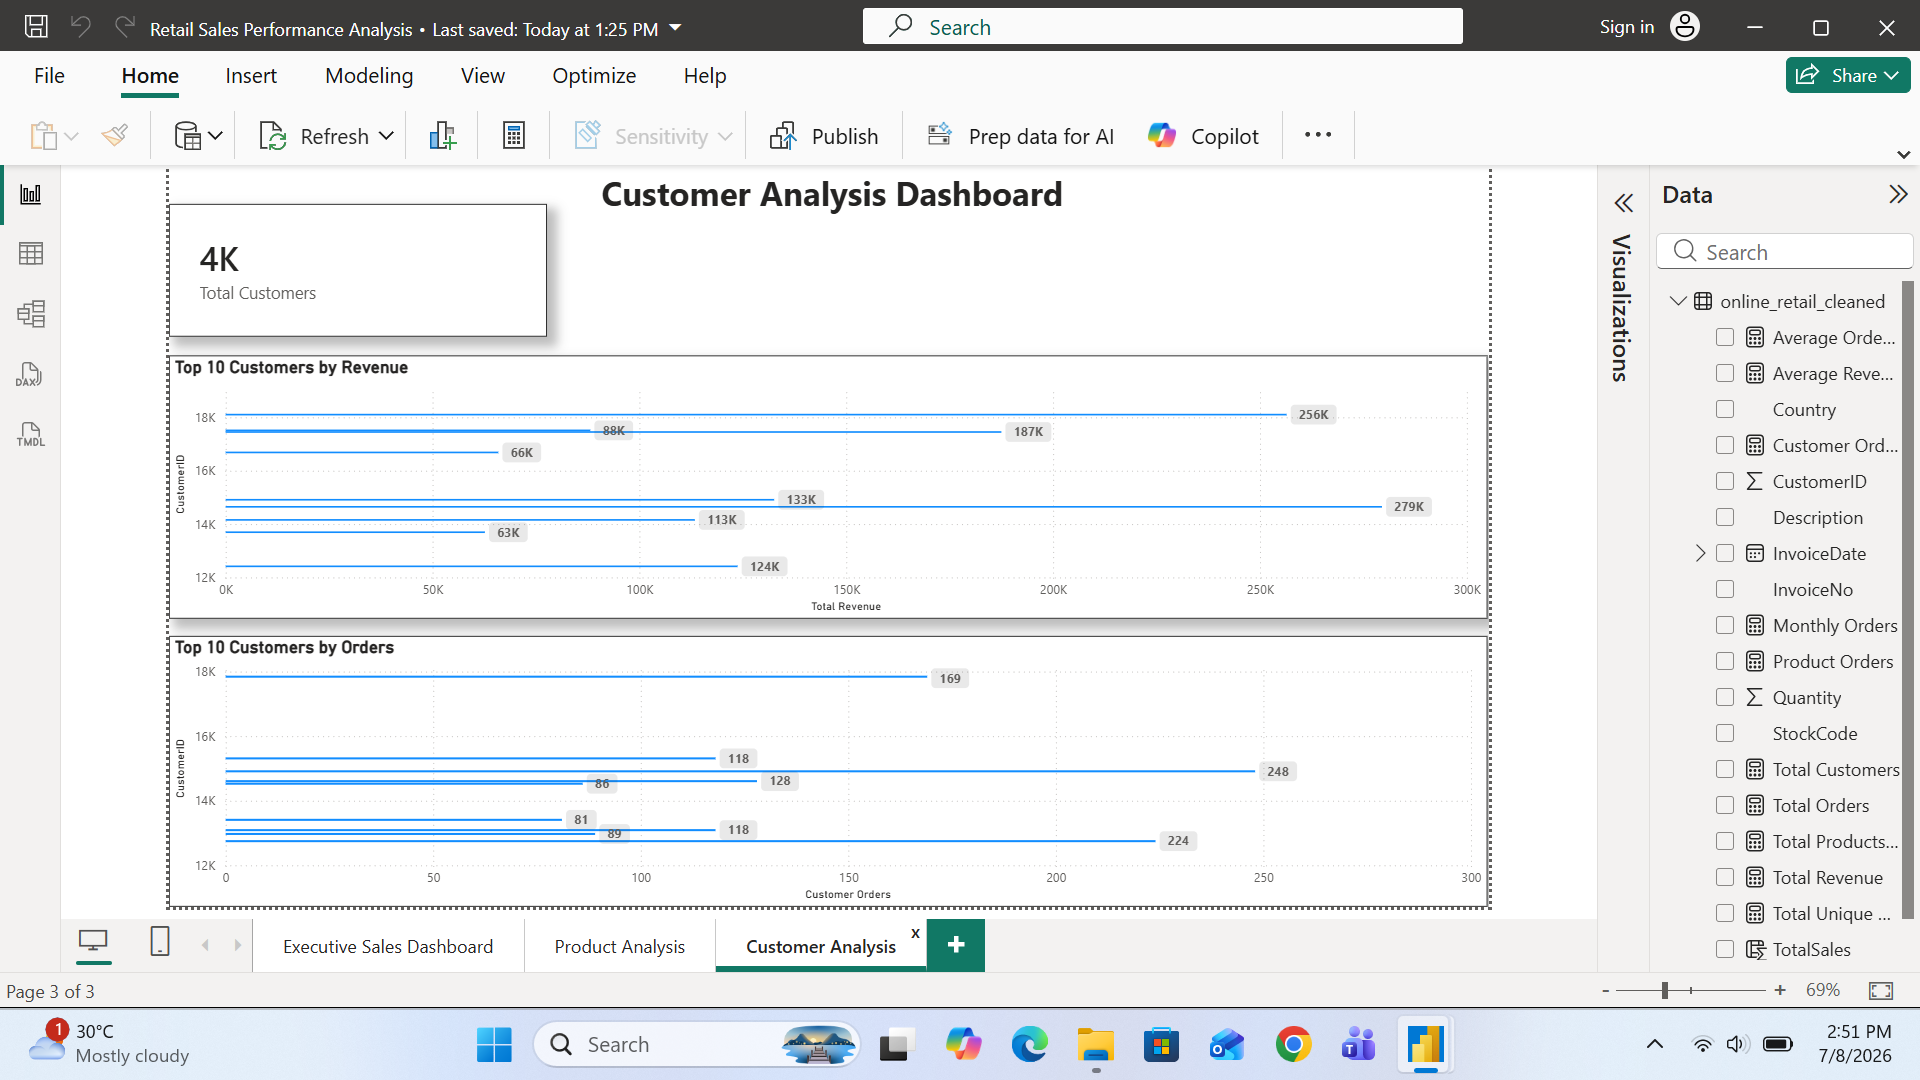

What the dashboard file says about the page in this screenshot:
{"tool":"powerbi","page":{"name":"Customer Analysis","canvas":[1280,720],"ordinal":2},"visuals":[{"type":"textbox","box":[9.4,0,1269.9,73.7],"z":0},{"type":"clusteredBarChart","title":"Top 10 Customers by Revenue","fields":{"Category":["online_retail_cleaned.CustomerID"],"Y":["online_retail_cleaned.Total Revenue"]},"box":[0,185.2,1279.4,255.1],"z":1000},{"type":"clusteredBarChart","title":"Top 10 Customers by Orders","fields":{"Category":["online_retail_cleaned.CustomerID"],"Y":["online_retail_cleaned.Customer Orders"]},"box":[0,457.3,1279.4,262.7],"z":2000},{"type":"cardVisual","fields":{"Data":["online_retail_cleaned.Total Customers"]},"box":[0,37.8,366.6,128.5],"z":3000}]}

Visuals, with their boxes on the page's 1280x720 design canvas (x1, y1, x2, y2). These are canvas units, not pixel positions in the 1920x1080 screenshot, which may show the page scaled, cropped or inside an application window:
textbox: rect(9, 0, 1279, 74)
"Top 10 Customers by Revenue" clusteredBarChart: rect(0, 185, 1279, 440)
"Top 10 Customers by Orders" clusteredBarChart: rect(0, 457, 1279, 720)
cardVisual - online_retail_cleaned.Total Customers: rect(0, 38, 367, 166)
